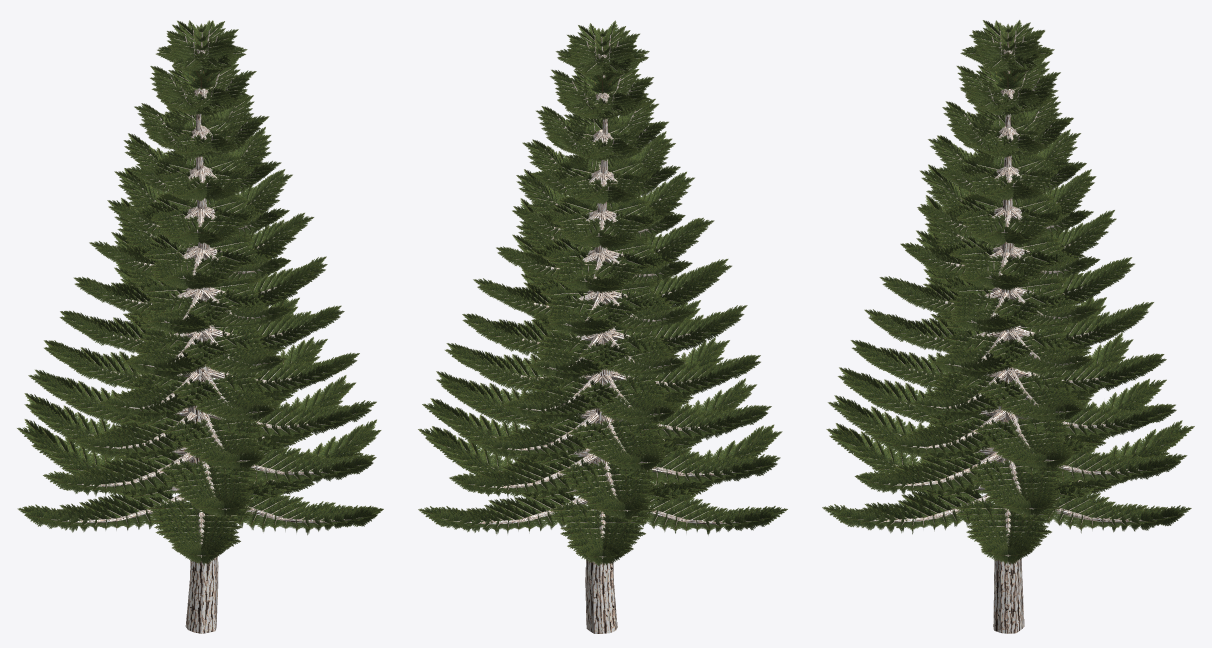
The model's file is pine_natural.glb.
3 views of the same model, side by side, from view 1: azimuth 30°, elevation 25°; view 2: azimuth 150°, elevation 25°; view 3: azimuth 270°, elevation 25° (orthographic).
Visible parts, largest first — view 1: Individual needle sprays, Natural pine trunk and tiered branches; view 2: Individual needle sprays, Natural pine trunk and tiered branches; view 3: Individual needle sprays, Natural pine trunk and tiered branches.
Part boxes in pixels (x1=…): Individual needle sprays: x1=17, y1=20, x2=383, y2=564; Natural pine trunk and tiered branches: x1=40, y1=26, x2=362, y2=633; Individual needle sprays: x1=418, y1=20, x2=787, y2=565; Natural pine trunk and tiered branches: x1=442, y1=31, x2=765, y2=633; Individual needle sprays: x1=822, y1=20, x2=1194, y2=564; Natural pine trunk and tiered branches: x1=846, y1=26, x2=1168, y2=633.
Bounding box in the file's own units: 8.4 × 13.13 × 7.48.
2 materials, 2 textured.
